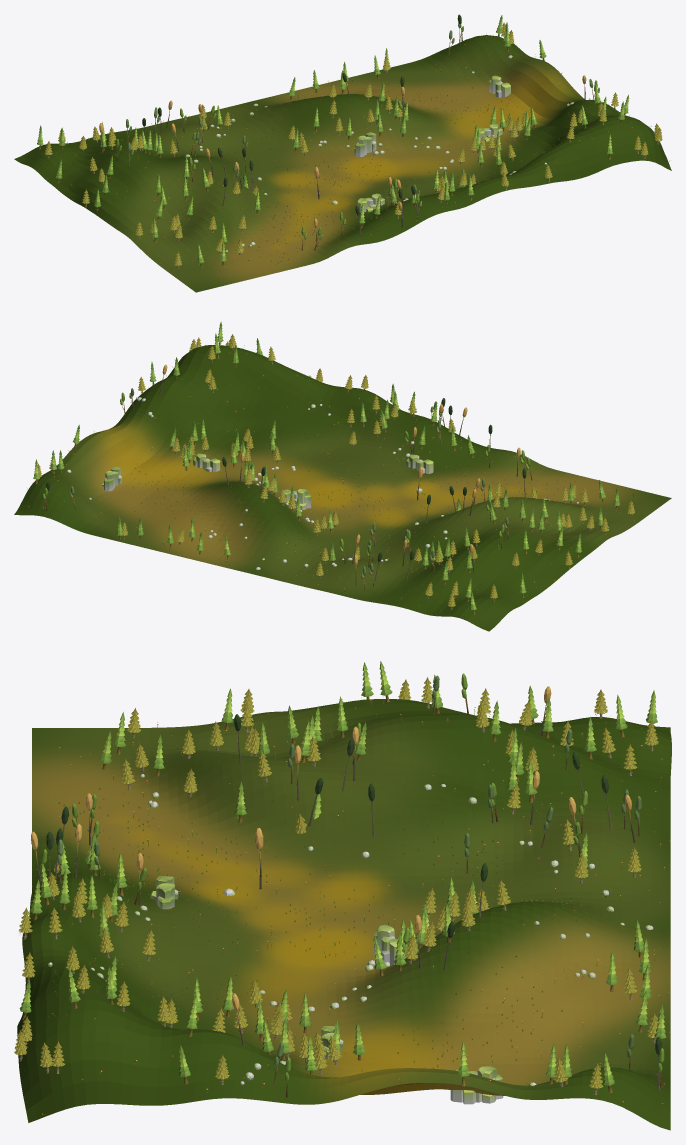
Rendered from low_poly_level_1-2.fbx.
3 views of the same model, one above another, from view 1: azimuth 30°, elevation 25°; view 2: azimuth 150°, elevation 25°; view 3: azimuth 270°, elevation 25° (orthographic). The views are drawn at different scales.
Parts seen in each view (by area): view 1: Plane; view 2: Plane; view 3: Plane.
Part boxes in pixels (box(x1,y1,x2,y2)): Plane: box(14, 14, 671, 292); Plane: box(14, 321, 671, 631); Plane: box(14, 661, 671, 1130).
Size of the model in its own units: 15431 by 2486 by 10305.
